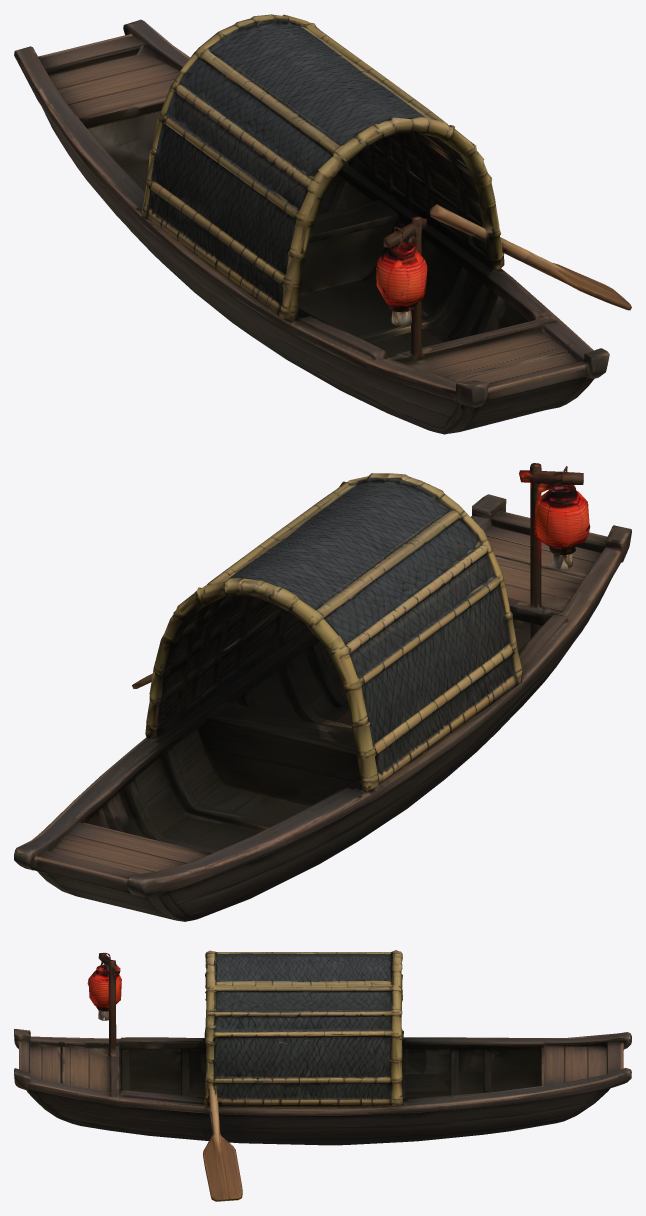
The model's file is boat.glb.
The picture shows the model from 3 angles, top to bottom: view 1: azimuth 30°, elevation 25°; view 2: azimuth 150°, elevation 25°; view 3: azimuth 270°, elevation 25°; orthographic projection. The views are drawn at different scales.
Visible parts, largest first — view 1: convert; view 2: convert; view 3: convert.
Part boxes in pixels (<box>): convert: <box>14,14,631,434</box>; convert: <box>14,463,631,921</box>; convert: <box>14,950,631,1201</box>.
Size of the model in its own units: 0.5034 by 0.3402 by 1.14.
Materials: 1 (1 with a texture image).
